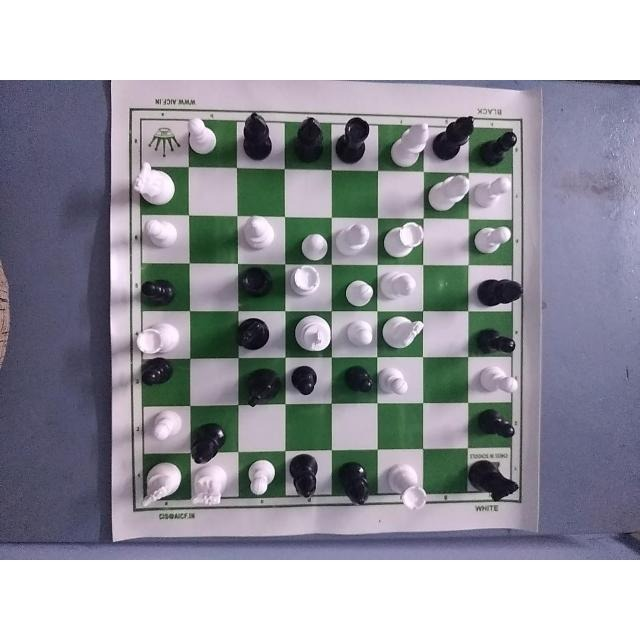black-bishop: (239, 111, 281, 165), (434, 111, 475, 163), (292, 110, 328, 166), (289, 454, 325, 505), (187, 417, 225, 465), (339, 458, 373, 508), (474, 276, 526, 306)
black-knight: (470, 456, 522, 503), (232, 318, 279, 360), (243, 364, 282, 412)
black-pawn: (292, 361, 337, 402), (473, 409, 517, 445), (471, 326, 523, 356), (476, 128, 518, 163), (338, 359, 378, 395), (137, 272, 173, 308), (141, 354, 177, 389)
black-rook: (334, 114, 376, 166), (234, 260, 270, 301)
white-bishop: (386, 115, 430, 168), (332, 215, 373, 262), (236, 214, 278, 254), (427, 174, 469, 212), (379, 266, 419, 303)
white-king: (292, 311, 340, 358)
white-knight: (136, 458, 185, 514), (131, 161, 183, 211), (190, 461, 226, 511), (381, 312, 424, 350)
white-pawn: (184, 112, 224, 155), (245, 452, 278, 501), (135, 214, 185, 246), (145, 411, 189, 447), (473, 171, 515, 207), (472, 366, 518, 398), (470, 223, 514, 254), (299, 223, 329, 264), (380, 364, 412, 398), (348, 315, 376, 351), (346, 276, 376, 308)
white-rook: (385, 449, 429, 510), (133, 321, 181, 362), (287, 262, 330, 302)
